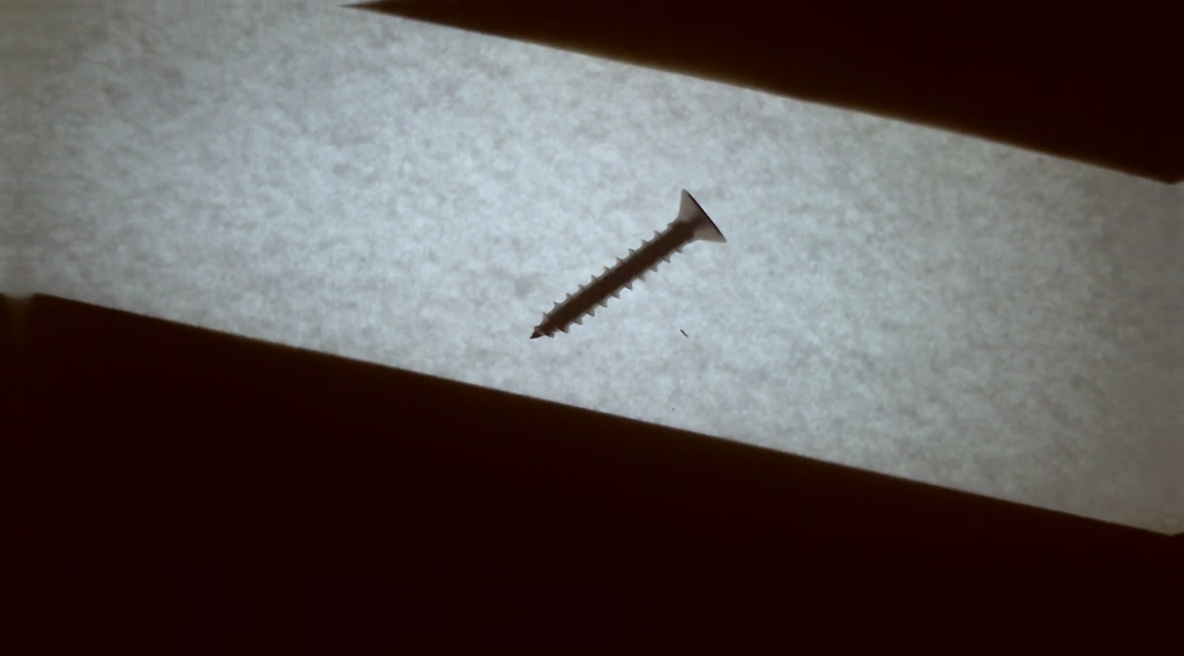S001: (508, 177, 738, 356)
